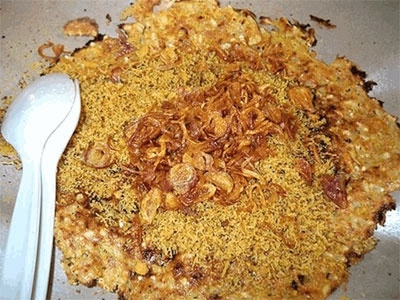kerak_telor: (85, 2, 400, 295)
